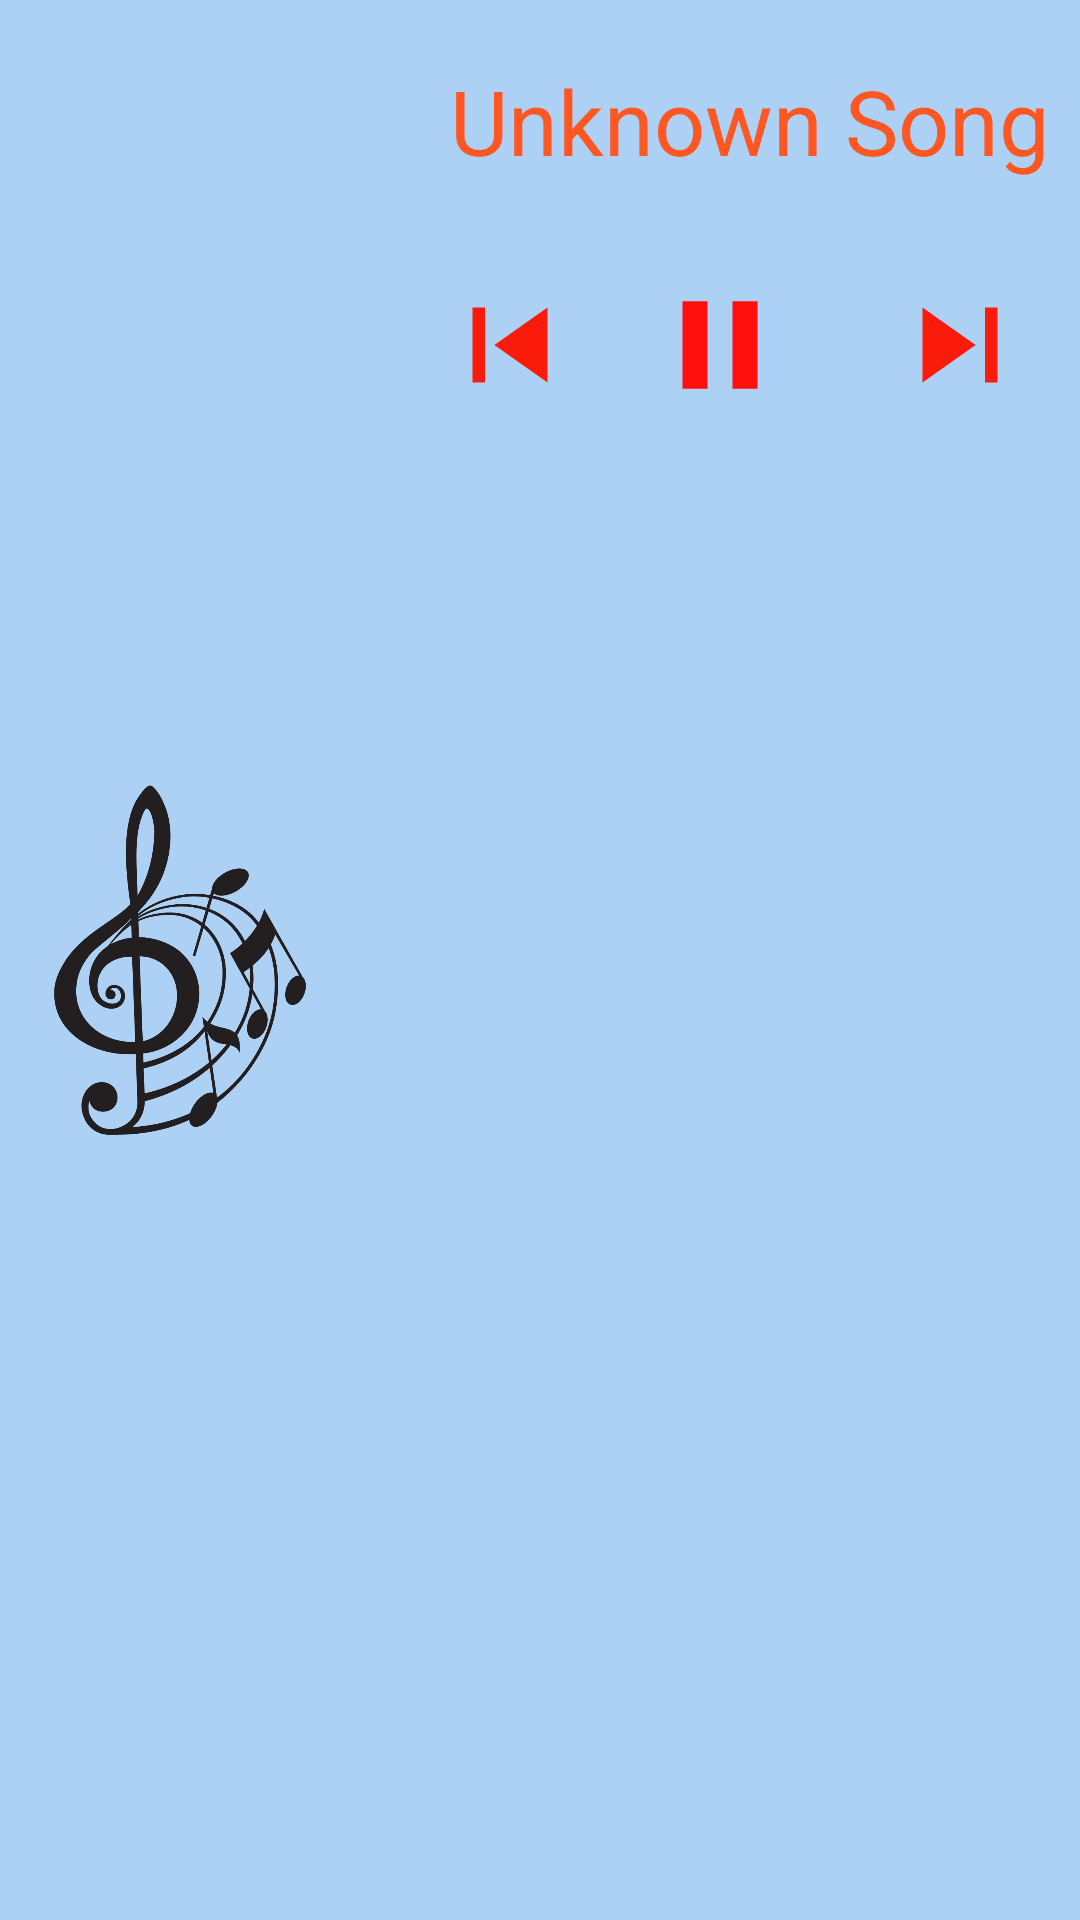

Named icons in this screenshot (1080x1920) and their bounding boxes, (x1=x1, y1=y1, x2=x2, y2=y2):
notification pause: (x1=682, y1=301, x2=758, y2=389)
skip next: (x1=922, y1=307, x2=998, y2=383)
skip previous: (x1=472, y1=307, x2=548, y2=383)
